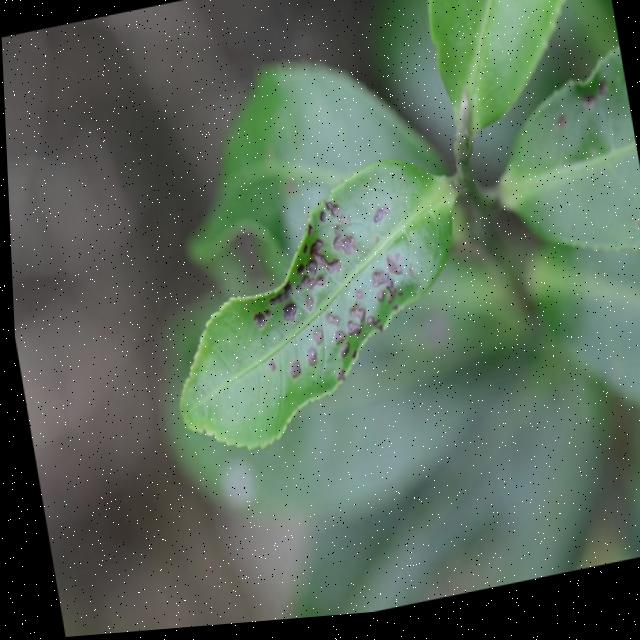Tea red scab: (229, 188, 468, 403)
